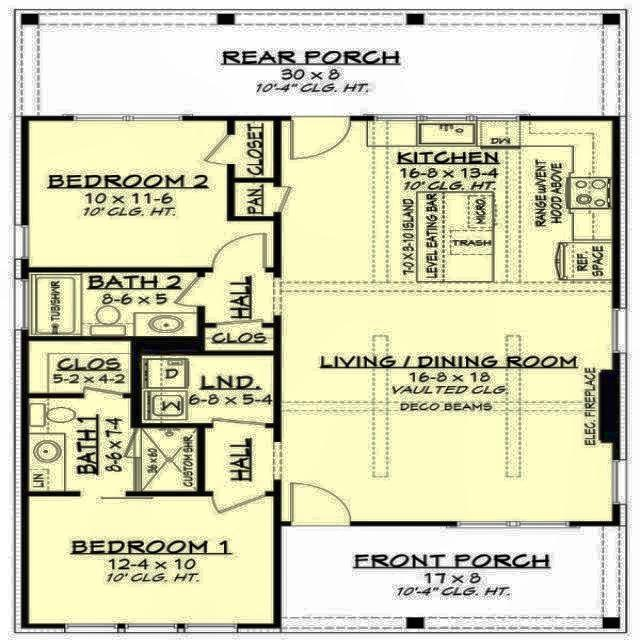room: (281, 120, 613, 522), (29, 121, 276, 267), (30, 497, 273, 624), (30, 272, 196, 336), (30, 399, 130, 491), (142, 356, 273, 422), (29, 341, 131, 393), (206, 428, 273, 491), (142, 428, 198, 491), (204, 272, 272, 323), (235, 121, 273, 177), (205, 328, 273, 349), (235, 183, 273, 216)
